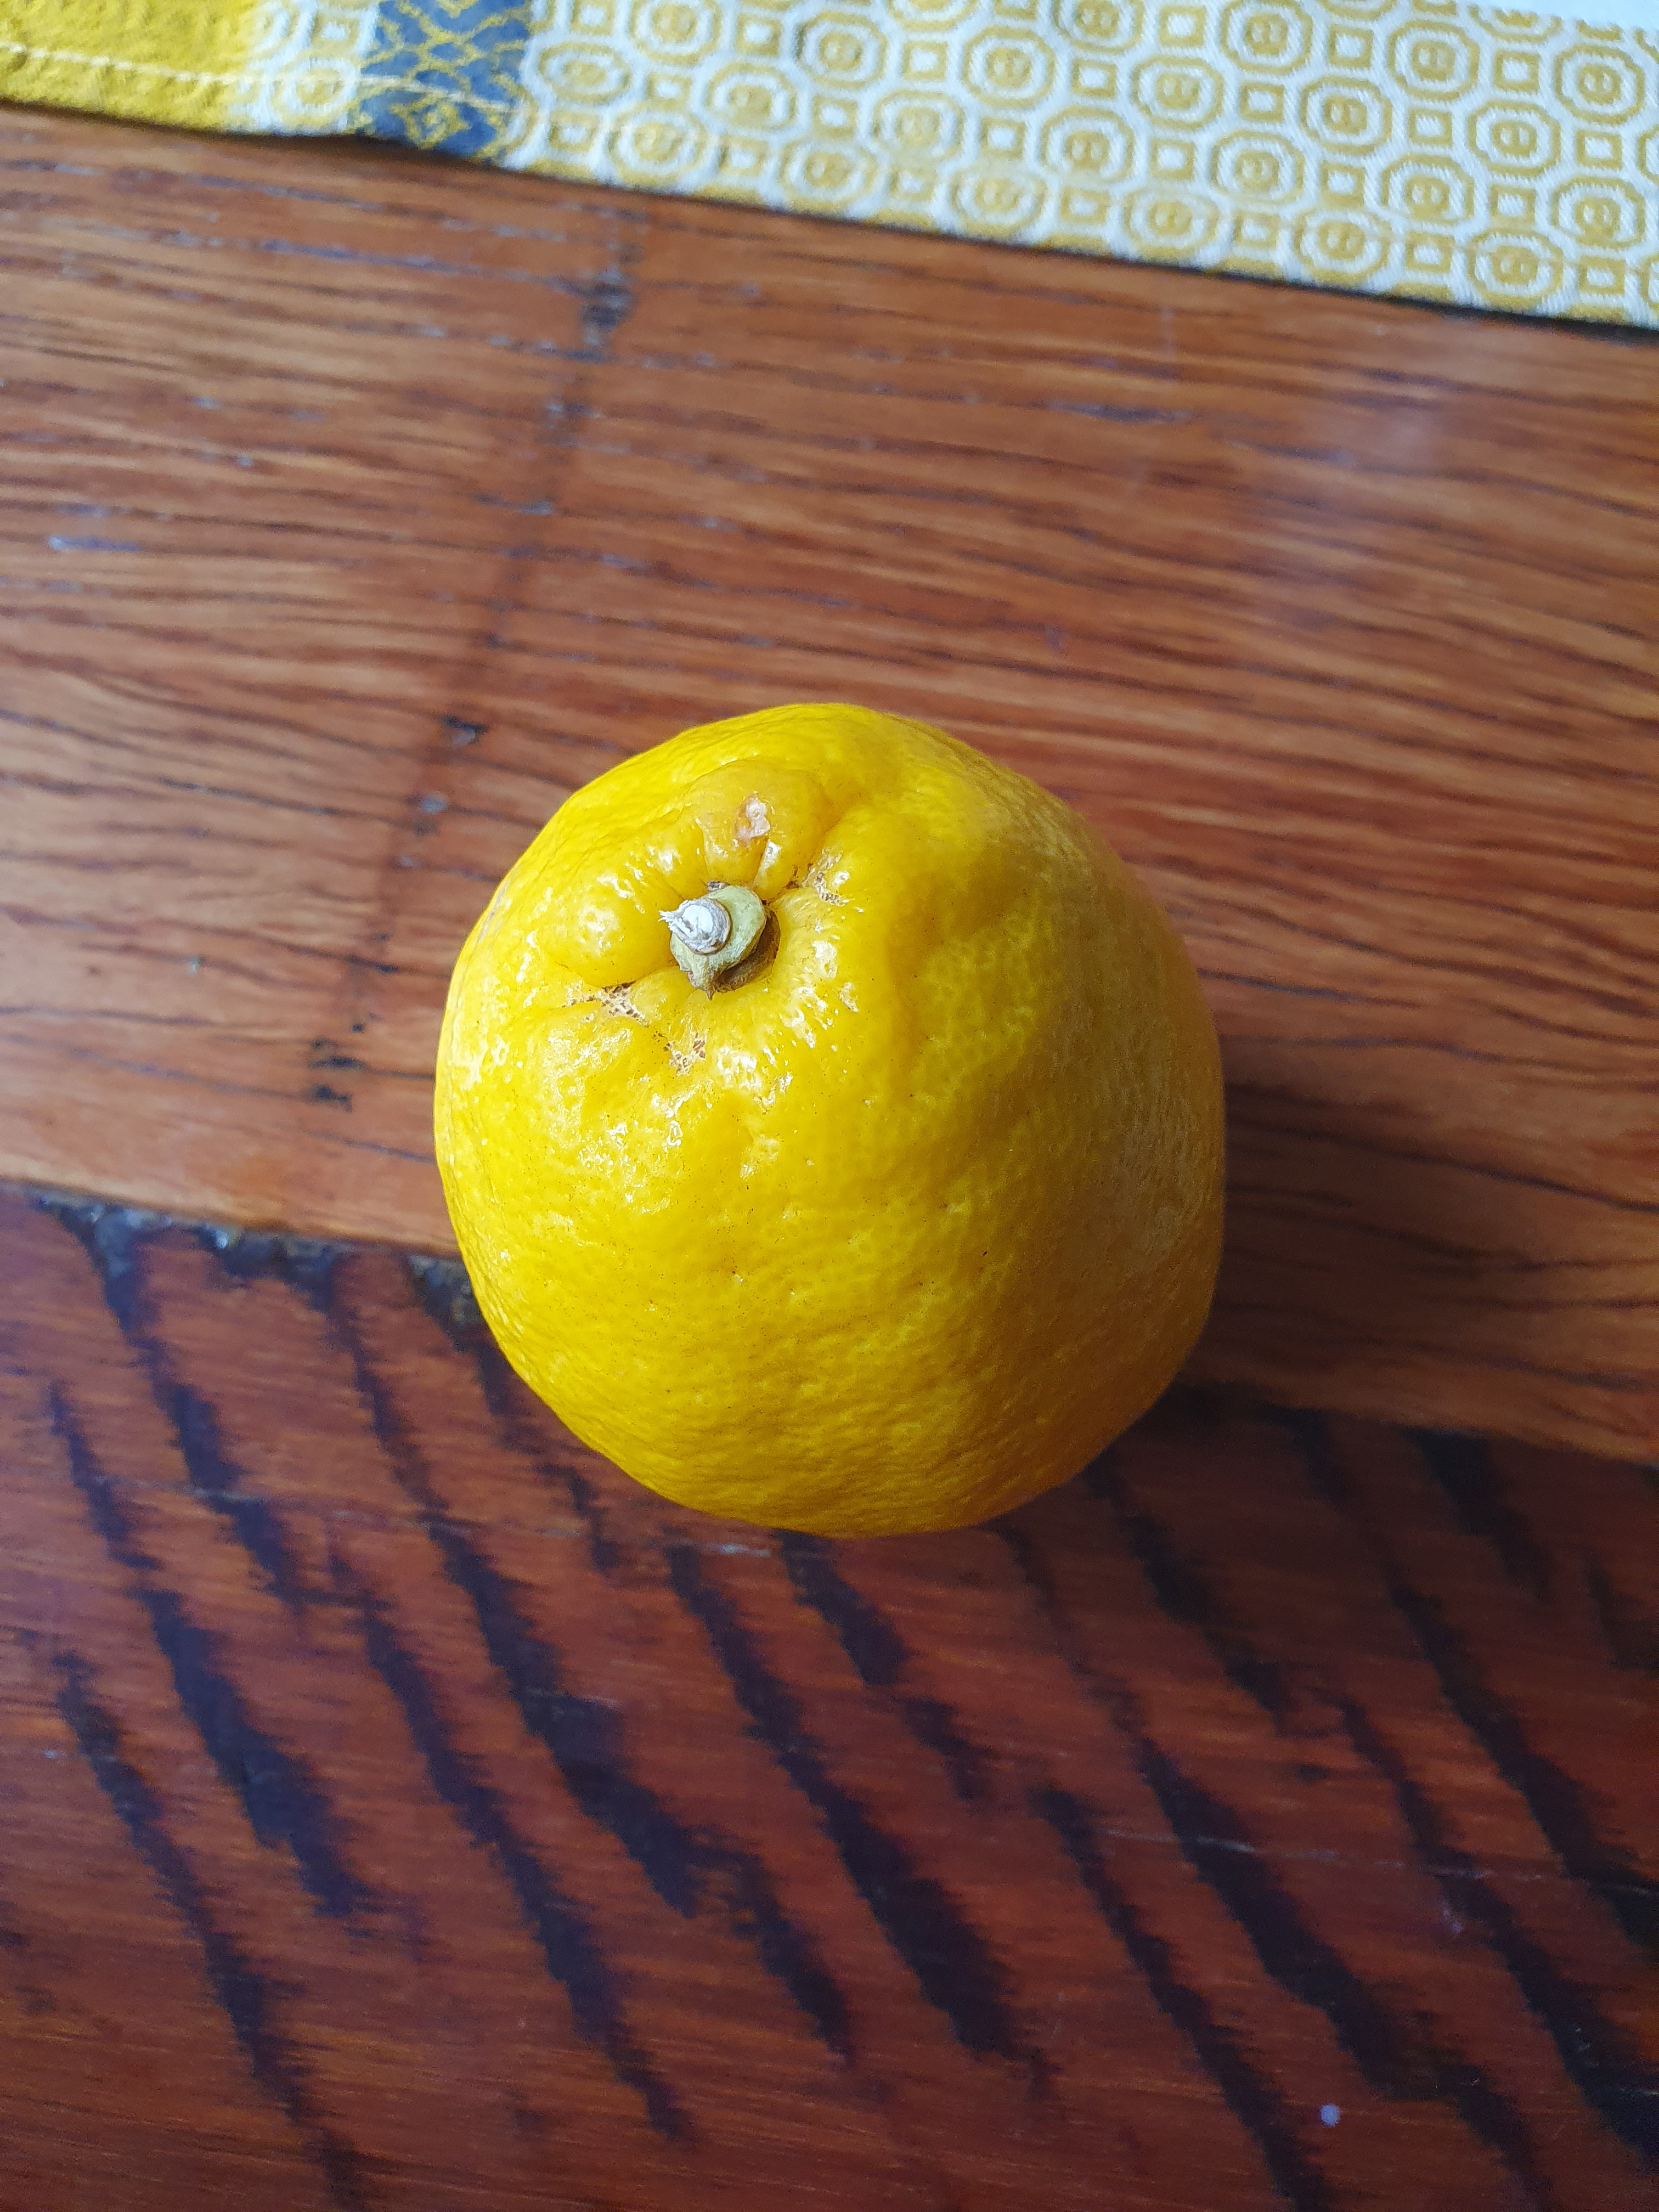lemon: (378, 679, 1244, 1550)
